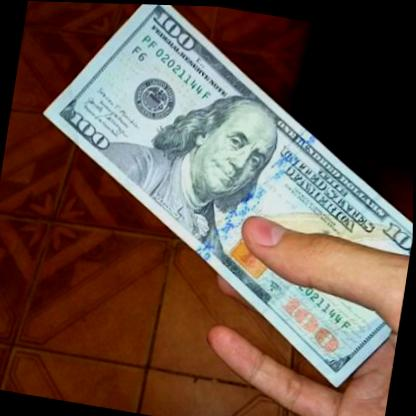dollar_front: (0, 0, 416, 396)
